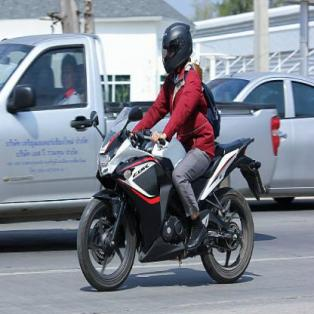Motocicleta: (74, 112, 258, 288)
